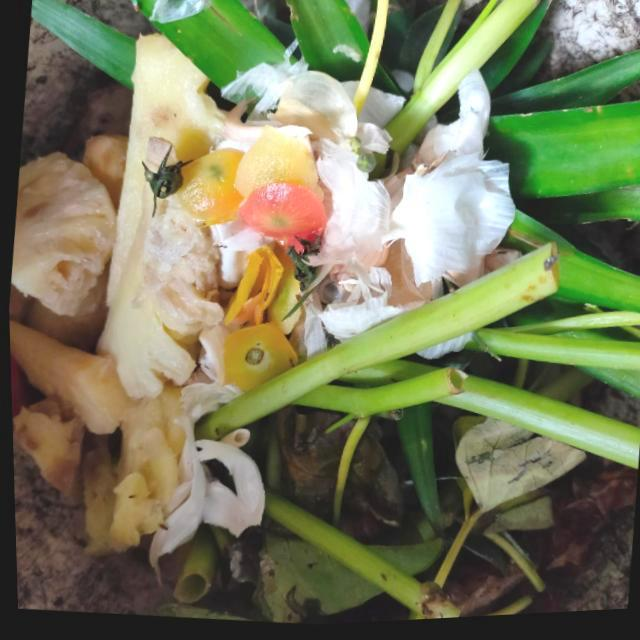left_over_food: (93, 33, 261, 399), (79, 387, 184, 556), (9, 151, 115, 313), (8, 323, 137, 435), (10, 397, 81, 497)
